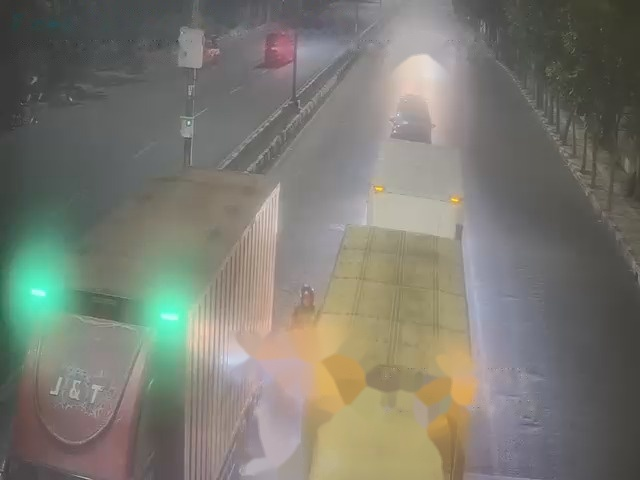Truk: (35, 170, 273, 477), (318, 221, 467, 479), (365, 134, 484, 223), (284, 323, 310, 385)
